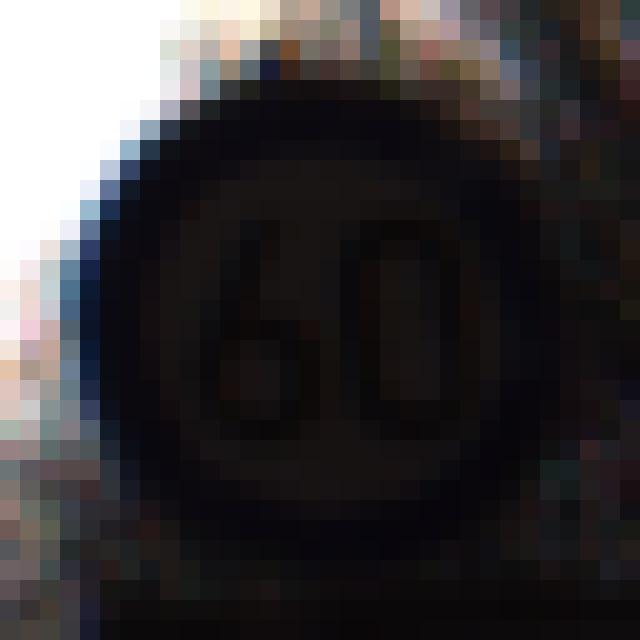SPEED-LIMIT-60: (60, 54, 595, 601)
